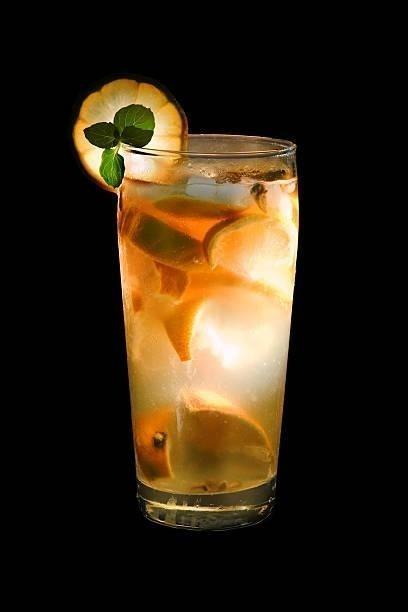glass-normal: (112, 128, 302, 533)
